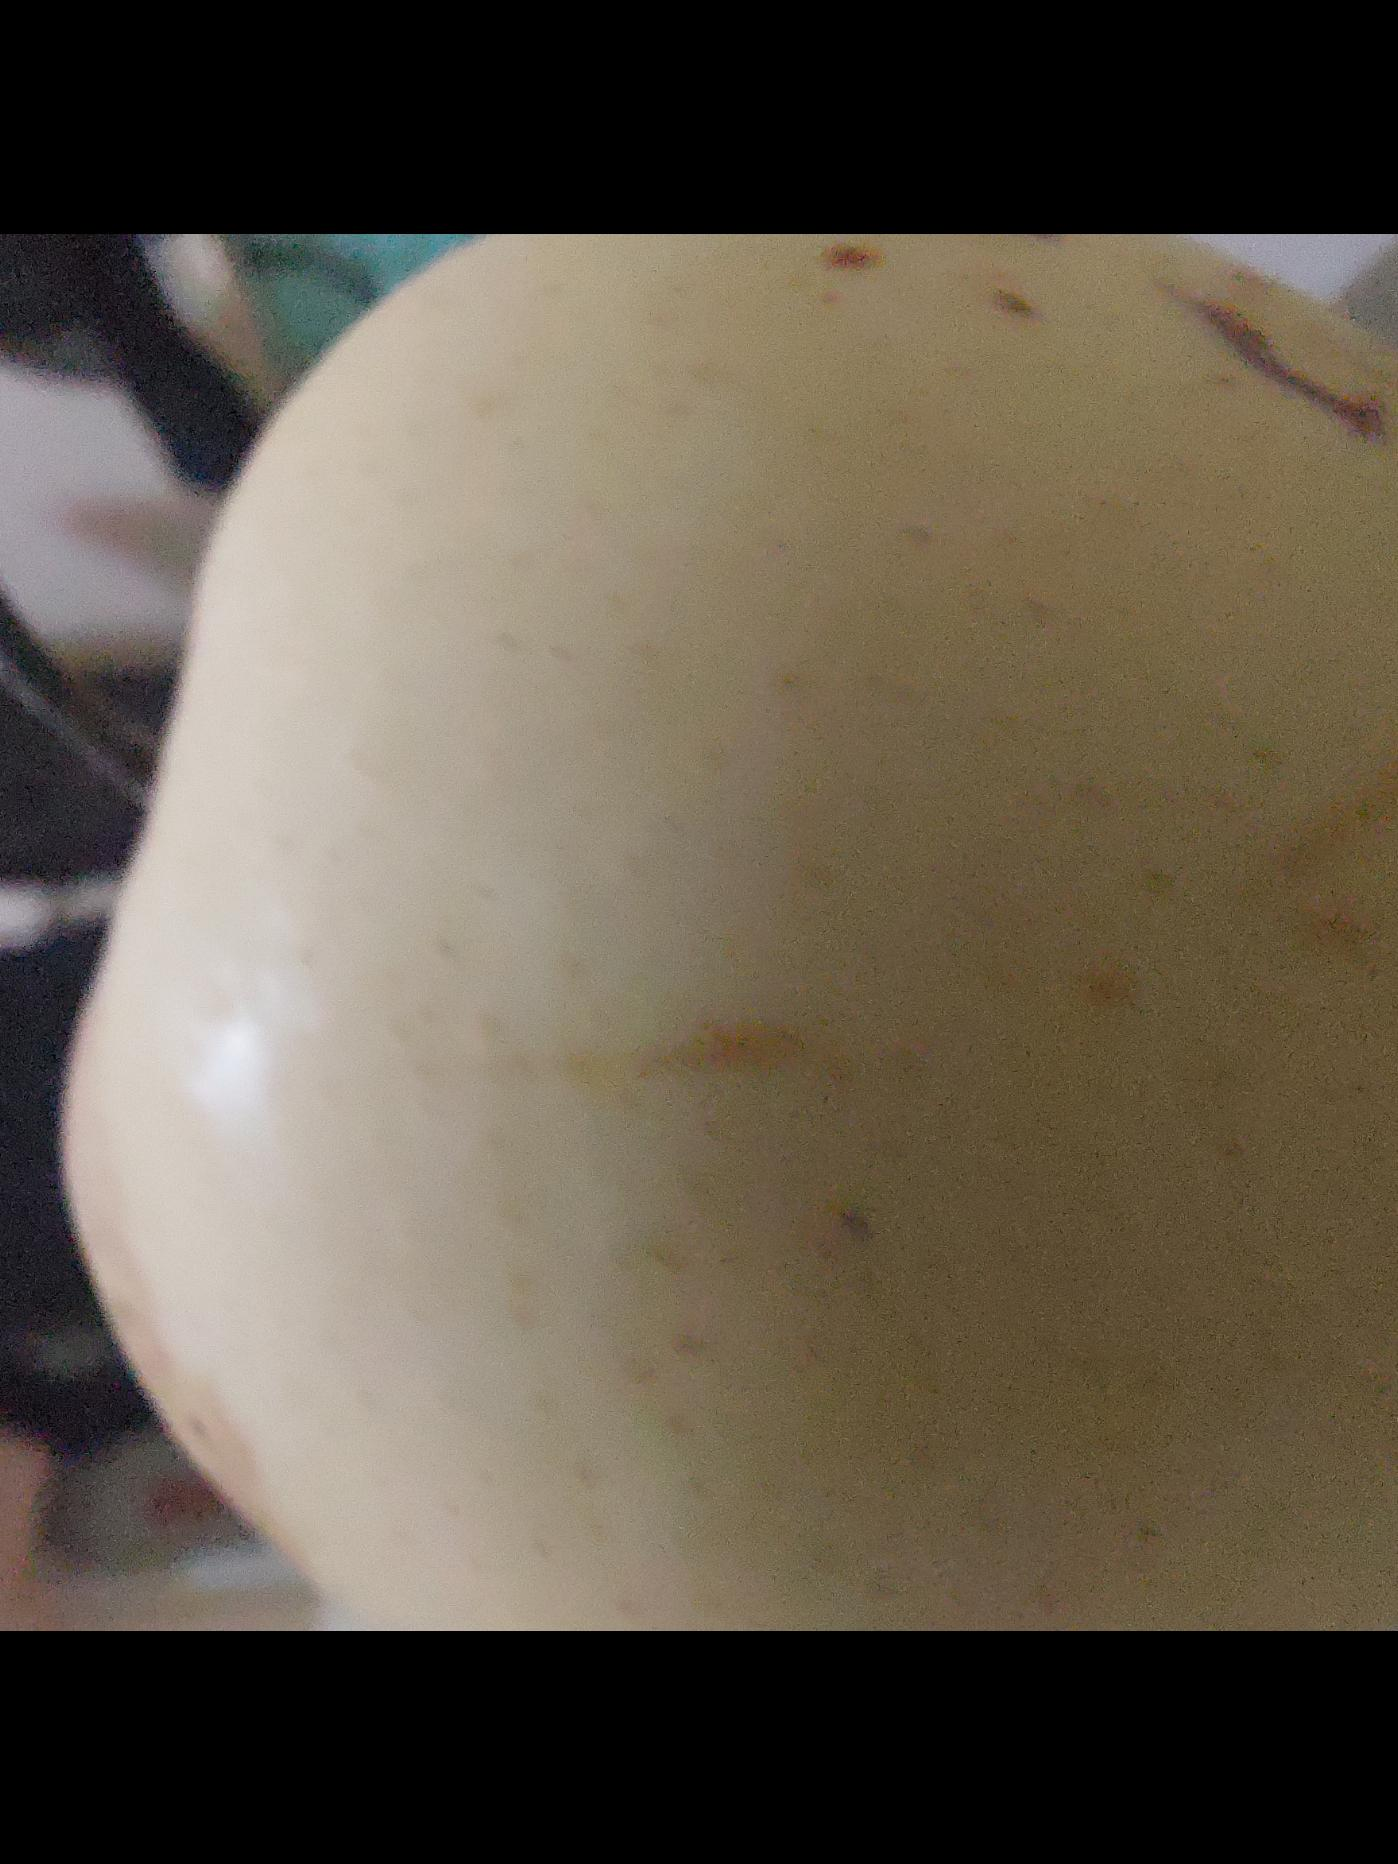Bad Pear: (65, 233, 1398, 1631)
